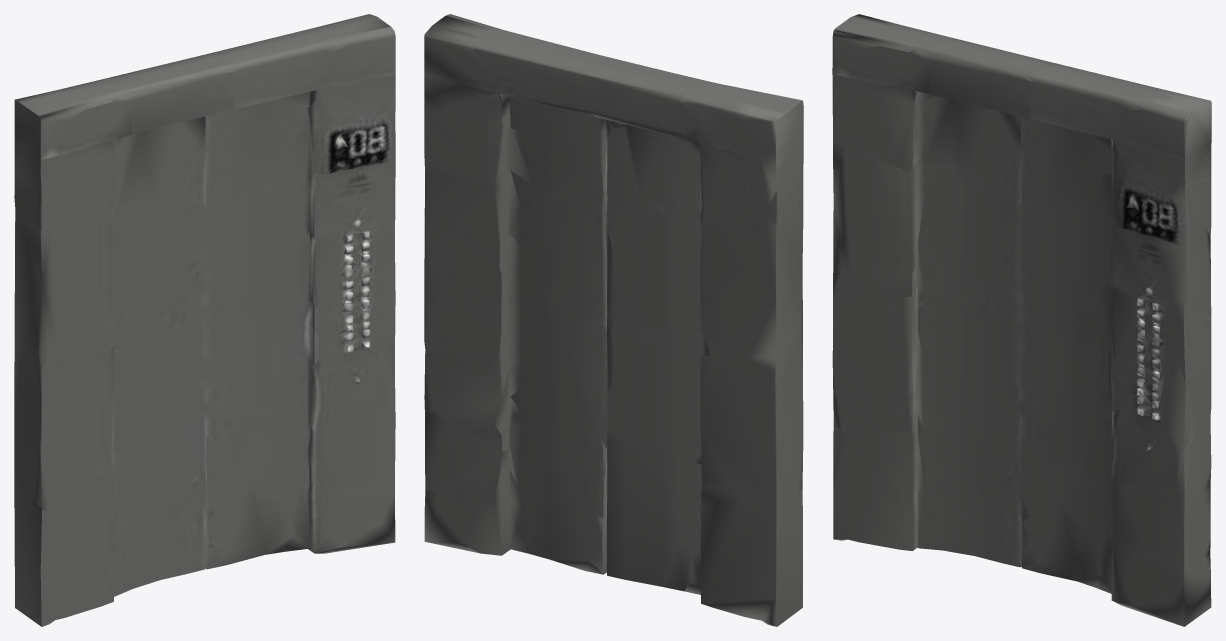
File: lift_lod2.glb
The picture shows the model from 3 angles, left to right: view 1: azimuth 30°, elevation 25°; view 2: azimuth 150°, elevation 25°; view 3: azimuth 330°, elevation 25°; orthographic projection.
Visible parts, largest first — view 1: tripo_node_fd0e62e2-f3a6-4bc2-8aaf-19a0c553b19a; view 2: tripo_node_fd0e62e2-f3a6-4bc2-8aaf-19a0c553b19a; view 3: tripo_node_fd0e62e2-f3a6-4bc2-8aaf-19a0c553b19a.
Part boxes in pixels (x1,y1,x2,y2): tripo_node_fd0e62e2-f3a6-4bc2-8aaf-19a0c553b19a: (14, 14, 395, 626); tripo_node_fd0e62e2-f3a6-4bc2-8aaf-19a0c553b19a: (424, 14, 803, 626); tripo_node_fd0e62e2-f3a6-4bc2-8aaf-19a0c553b19a: (832, 14, 1211, 626).
Size of the model in its own units: 0.7259 by 0.9998 by 0.1008.
1 material, 1 textured.
